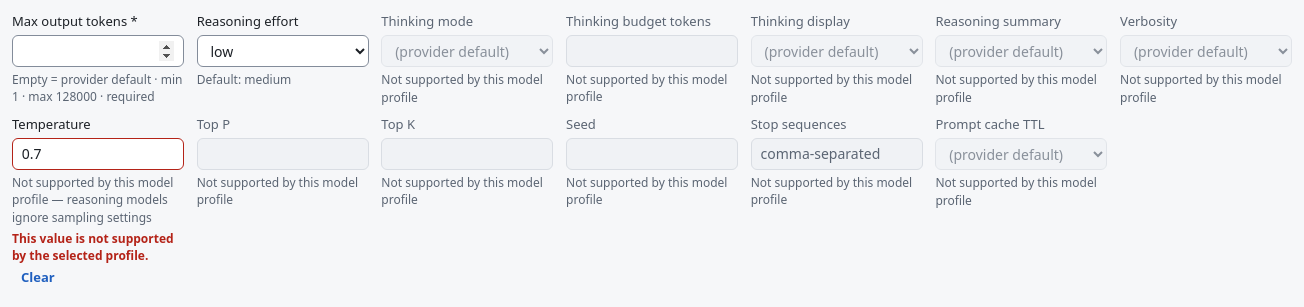
Test: SettingsEditor › keeps an unsupported value visible and flagged instead of dropping it
Expected: the number field labelled "Temperature" is enabled, [12, 138, 184, 170]
Expected: the number field labelled "Temperature" holds "0.7", [12, 138, 184, 170]
Click the button "Clear".
click(38, 278)  # box [12, 265, 64, 291]
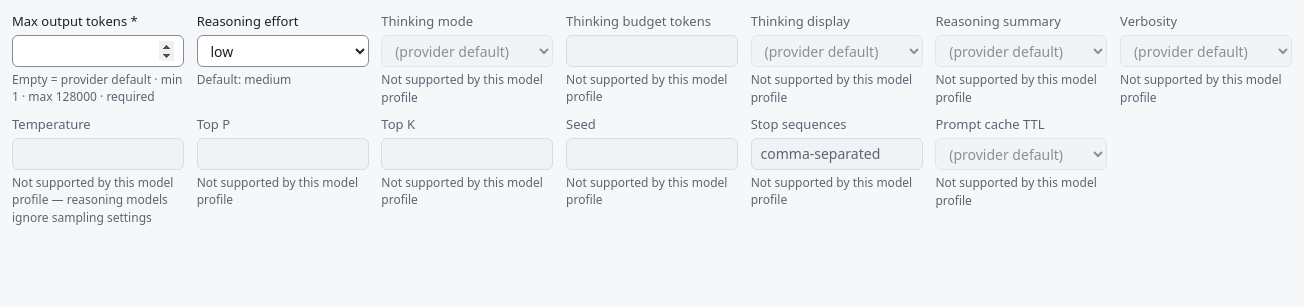
Expected: the number field labelled "Temperature" is disabled, [12, 138, 184, 170]
